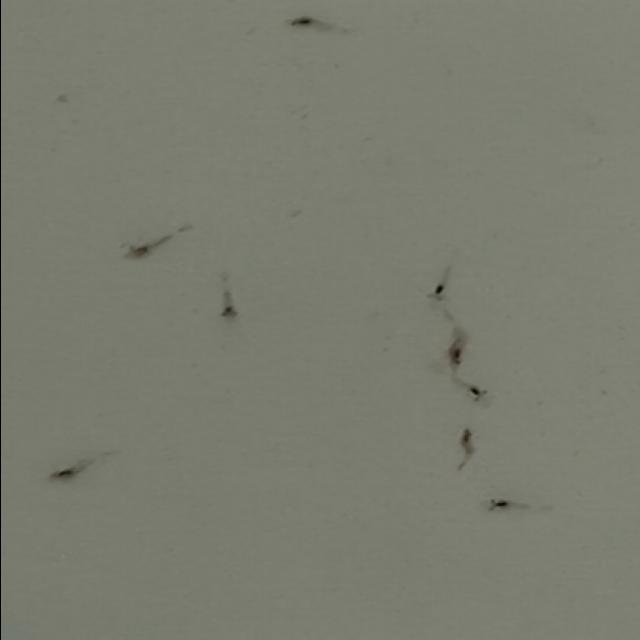shrimp-seed: (46, 461, 80, 486), (120, 237, 152, 262), (441, 342, 466, 370), (214, 296, 240, 321), (452, 426, 480, 449), (420, 284, 450, 304), (284, 12, 314, 32), (464, 384, 490, 404), (488, 495, 512, 515)
